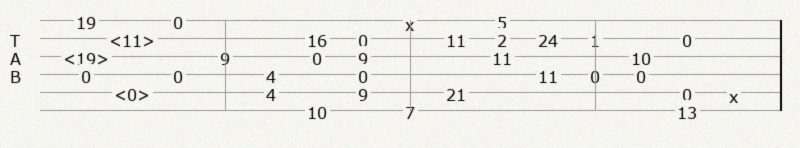0: (81, 66, 95, 82), (173, 12, 187, 28), (173, 66, 187, 82), (312, 48, 326, 64), (358, 30, 372, 46), (358, 66, 372, 82), (590, 66, 604, 82), (636, 66, 650, 82), (682, 84, 696, 100), (682, 30, 696, 46)
1: (590, 30, 604, 46)
10: (307, 102, 331, 118), (631, 48, 655, 64)
11: (446, 30, 470, 46), (492, 48, 516, 64), (538, 66, 562, 82)
13: (677, 102, 701, 118)
16: (307, 30, 331, 46)
19: (76, 12, 100, 28)
2: (497, 30, 511, 46)
21: (446, 84, 470, 100)
24: (538, 30, 562, 46)
4: (266, 84, 280, 100), (266, 66, 280, 82)
5: (497, 12, 511, 28)
7: (405, 102, 419, 118)
9: (220, 48, 234, 64), (358, 84, 372, 100), (358, 48, 372, 64)
harmonic: (63, 48, 113, 64), (109, 30, 159, 46), (114, 84, 154, 100)
x: (405, 14, 418, 27), (729, 86, 742, 99)
